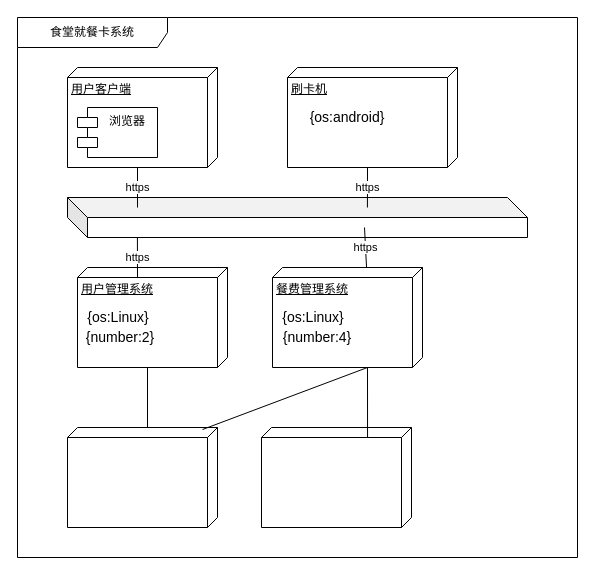
Some shapes in this 595 by 575 pixel diagram are drawn without their labels. Here are the shapes that lost their labels. From the top down, the centre of each, then its label:
the point at 297,217: nginx
the point at 142,477: MYSQL
the point at 336,477: ES 集群
